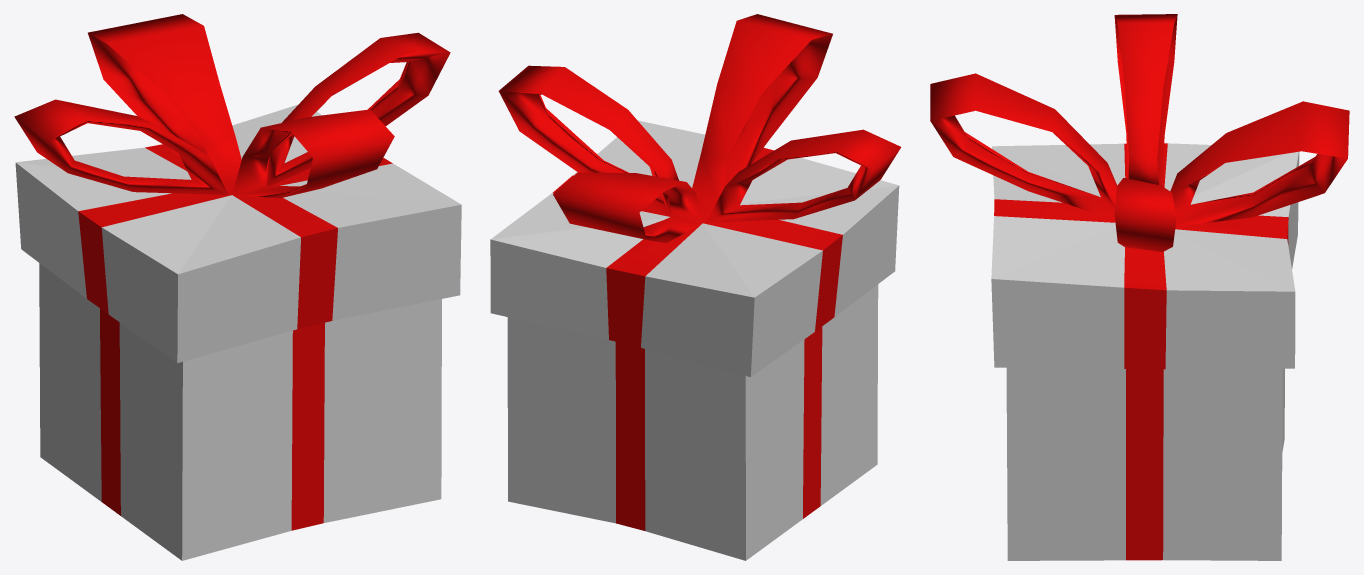
The model's file is gift.fbx.
The picture shows the model from 3 angles, left to right: view 1: azimuth 30°, elevation 25°; view 2: azimuth 150°, elevation 25°; view 3: azimuth 270°, elevation 25°; orthographic projection. The views are drawn at different scales.
Visible parts, largest first — view 1: pCube4; view 2: pCube4; view 3: pCube4.
Part boxes in pixels (<box>): pCube4: <box>14,14,461,560</box>; pCube4: <box>490,14,901,560</box>; pCube4: <box>930,14,1349,560</box>.
Size of the model in its own units: 0.8861 by 0.8877 by 0.825.
